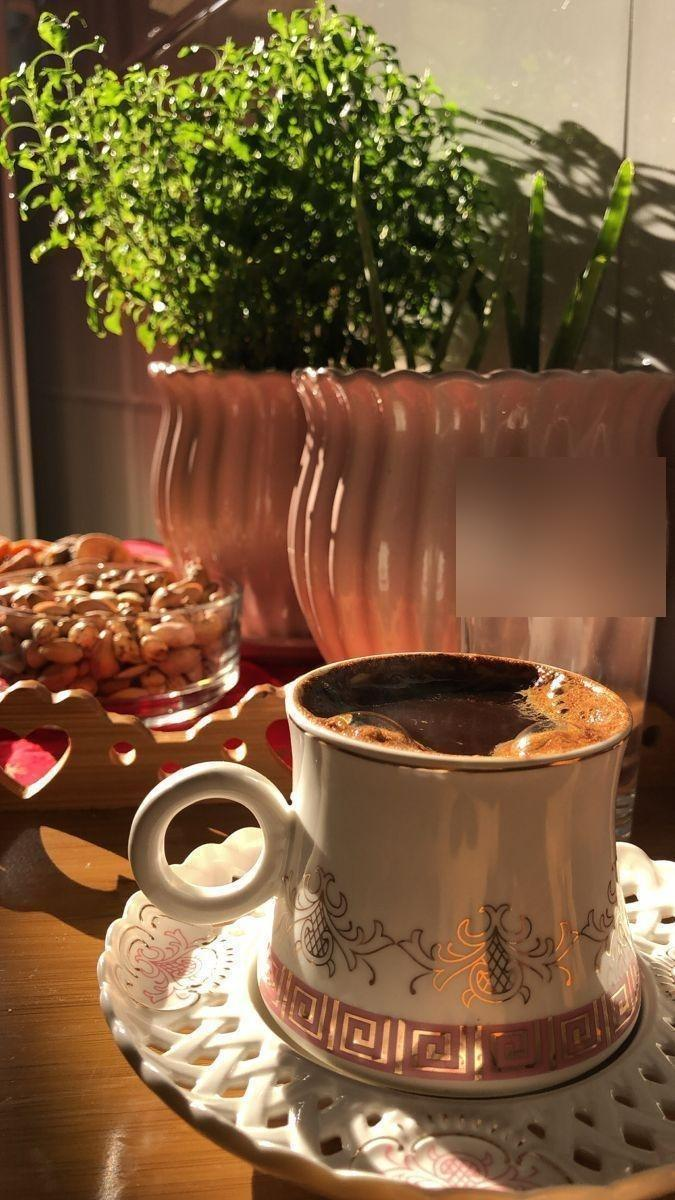cup-handle: (126, 650, 644, 1095)
